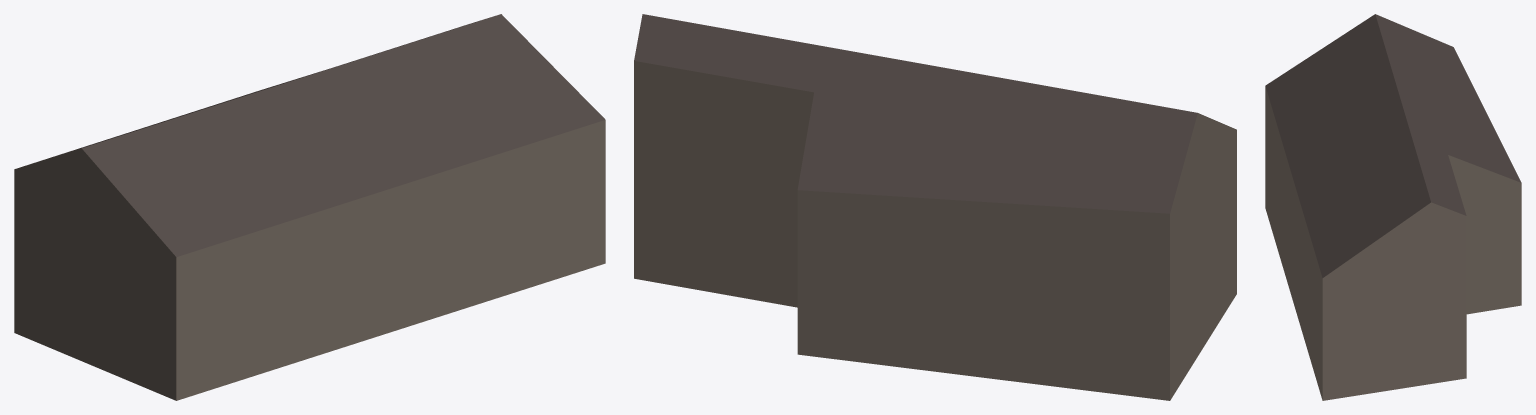
3 views of the same model, side by side, from view 1: azimuth 30°, elevation 25°; view 2: azimuth 150°, elevation 25°; view 3: azimuth 270°, elevation 25° (orthographic). The views are drawn at different scales.
Visible parts, largest first — view 1: HP-w1512359819; view 2: HP-w1512359819; view 3: HP-w1512359819.
Part boxes in pixels (box(x1,y1,x2,y2)): HP-w1512359819: box(14, 14, 605, 400); HP-w1512359819: box(634, 14, 1236, 400); HP-w1512359819: box(1265, 14, 1521, 400).
Size of the model in its own units: 22.5 by 8.89 by 11.36.
